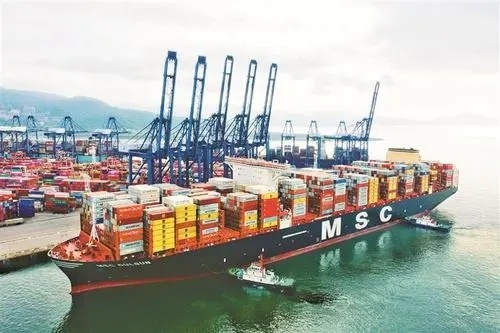Cargoship: (50, 136, 462, 292)
otherboat: (225, 247, 297, 289), (402, 209, 456, 234)
